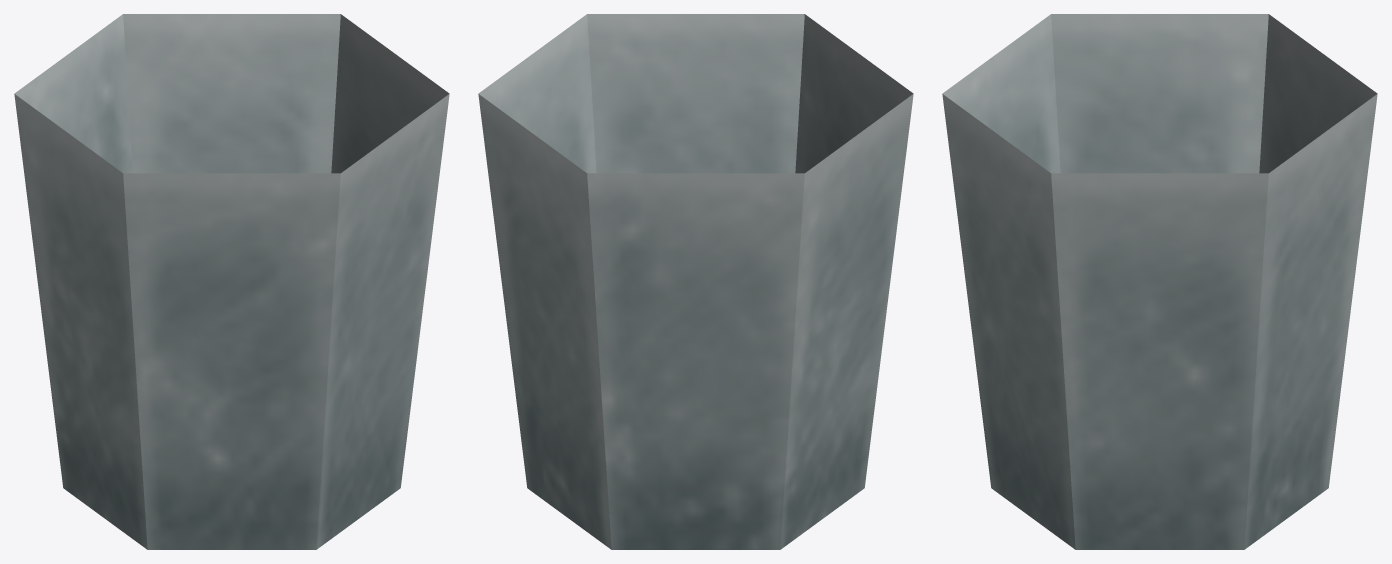
The model's file is Glas.fbx.
The picture shows the model from 3 angles, left to right: view 1: azimuth 30°, elevation 25°; view 2: azimuth 150°, elevation 25°; view 3: azimuth 270°, elevation 25°; orthographic projection.
Parts seen in each view (by area): view 1: Glas; view 2: Glas; view 3: Glas.
Boxes of the visible parts, bbox=[...] form: Glas: bbox=[14, 14, 449, 549]; Glas: bbox=[478, 14, 913, 549]; Glas: bbox=[942, 14, 1377, 549].
Size of the model in its own units: 9.4 by 10.85 by 10.85.
